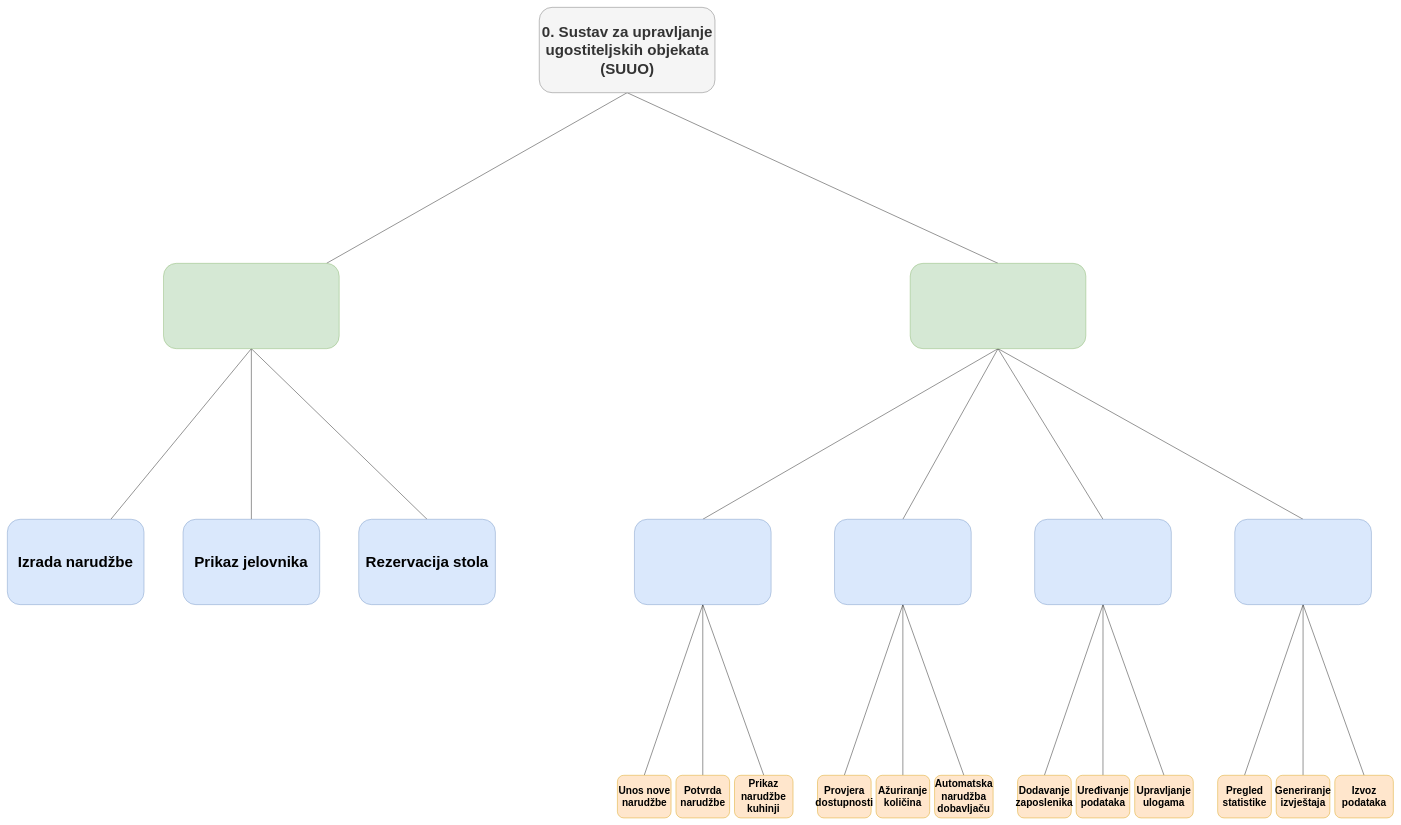
Some shapes in this 1401 by 825 pixel diagram are drawn without their labels. Each missing label, with the centre of its shape:
"Izvještavanje i narudžbe korisnika" goes at [251,306].
"Operativne funkcije djelatnika" goes at [998,306].
"Upravljanje izvještajima" goes at [1302,562].
"Upravljanje narudžbama" goes at [702,562].
"Upravljanje osobljem" goes at [1102,562].
"Upravljanje zalihama" goes at [902,562].
